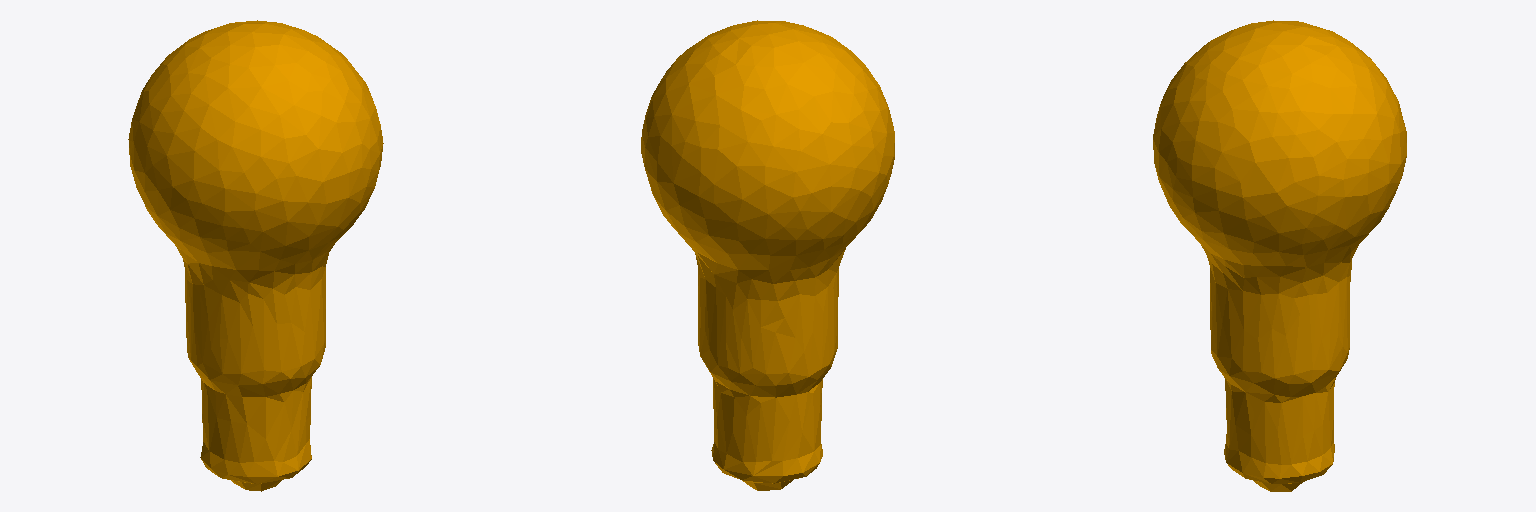
URDF robot description (light_bulb_poisson_006):
<?xml version="1.0"?>
<robot name="light_bulb_poisson_006">
  <link name="base_link">
    <contact>
      <lateral_friction value="1.0"/>
      <rolling_friction value="0.0"/>
      <contact_cfm value="0.0"/>
      <contact_erp value="1.0"/>
    </contact>
    <inertial>
      <mass value="0.0644443815312"/>
      <inertia ixx="1" ixy="0" ixz="0" iyy="1" iyz="0" izz="1"/>
    </inertial>
    <visual>
      <geometry>
        <mesh filename="light_bulb_poisson_006_visual.obj"/>
      </geometry>
    </visual>
    <collision>
      <geometry>
        <mesh filename="light_bulb_poisson_006_collision.obj"/>
      </geometry>
    </collision>
  </link>
</robot>

--- Facts derived from the render (not from the file) ---
Views: 3 orthographic renders of the robot side by side, from view 1: azimuth 30°, elevation 25°; view 2: azimuth 150°, elevation 25°; view 3: azimuth 270°, elevation 25°.
Model light_bulb_poisson_006 with 1 links and 0 joints (none), rooted at base_link, posed every joint at zero.
Visible links, largest first — view 1: base_link; view 2: base_link; view 3: base_link.
Link boxes in pixels (box(x1,y1,x2,y2)): base_link: box(128, 20, 383, 491); base_link: box(641, 20, 894, 490); base_link: box(1153, 20, 1406, 491).
Size in the robot's own frame: 0.0513 by 0.051 by 0.1005 metres.
Meshes: 1 distinct files referenced, 1 mesh visuals loaded (1 OBJ).